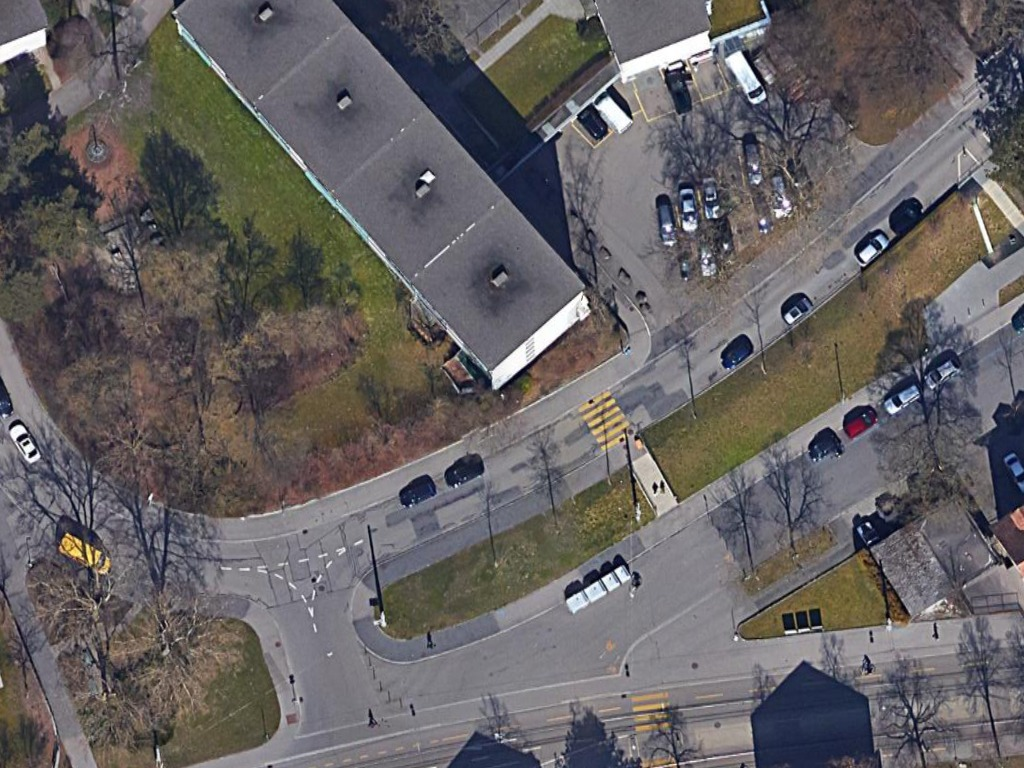car: (5, 420, 43, 467), (920, 353, 960, 392), (840, 402, 877, 443), (852, 229, 889, 269), (880, 380, 923, 413)
van: (722, 43, 771, 108)
